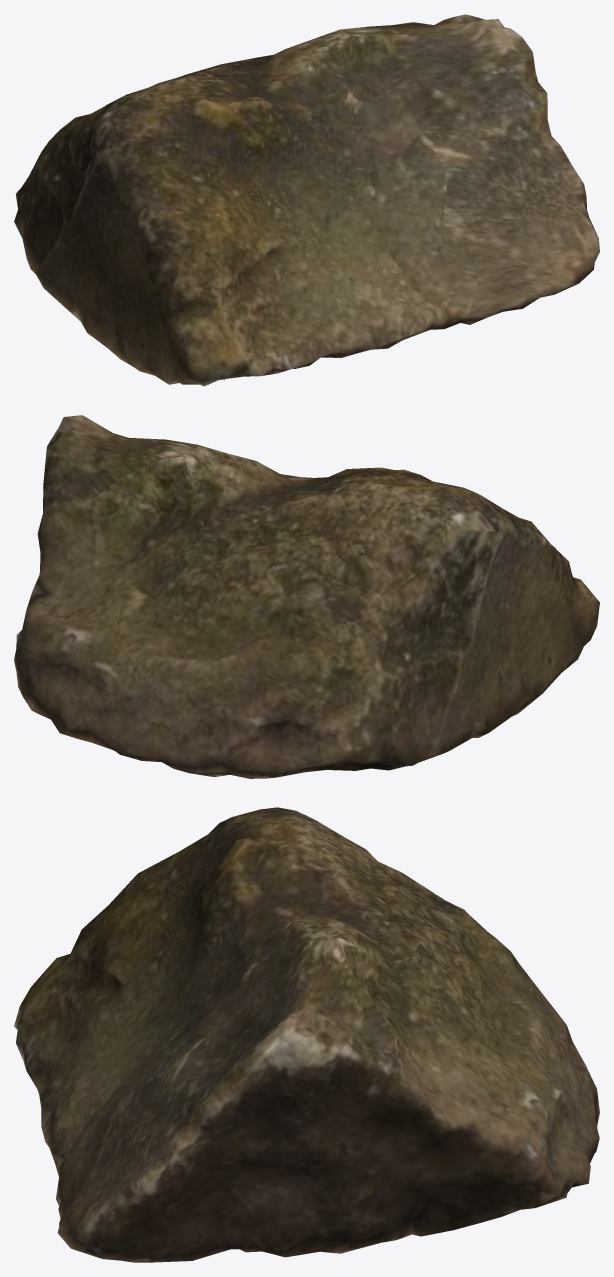
File: SM_RockMoss_A03.gltf
3 renders of one model, top to bottom at view 1: azimuth 30°, elevation 25°; view 2: azimuth 150°, elevation 25°; view 3: azimuth 270°, elevation 25°, orthographic. The views are drawn at different scales.
Visible parts, largest first — view 1: SM_RockMoss_A03; view 2: SM_RockMoss_A03; view 3: SM_RockMoss_A03.
Part boxes in pixels (left/top/right/bottom): SM_RockMoss_A03: left=14, top=14, right=599, bottom=386; SM_RockMoss_A03: left=14, top=415, right=599, bottom=778; SM_RockMoss_A03: left=14, top=807, right=599, bottom=1262.
Bounding box in the file's own units: 2.11 × 1.1 × 2.07.
1 material, 1 textured.
